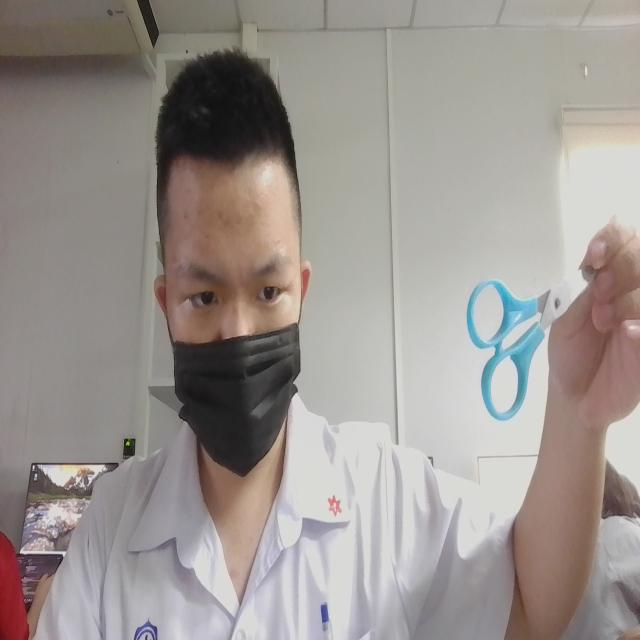scissors: (464, 241, 592, 442)
